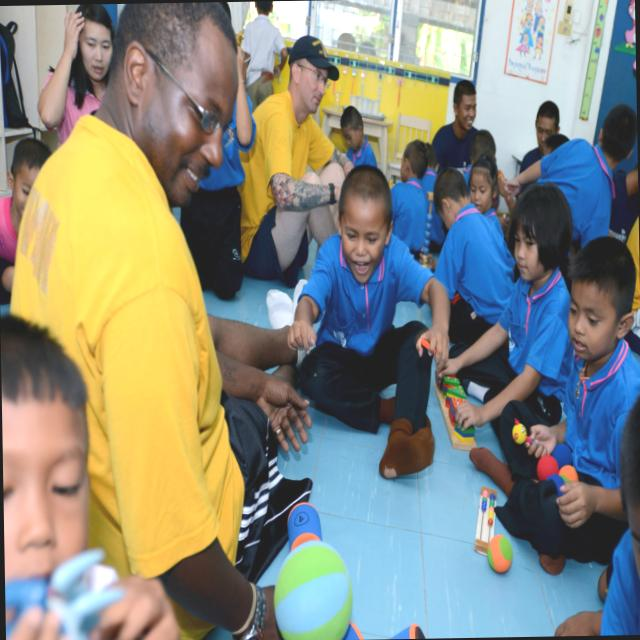Tennis Ball: (486, 534, 514, 572), (532, 450, 557, 480), (557, 467, 579, 480)
